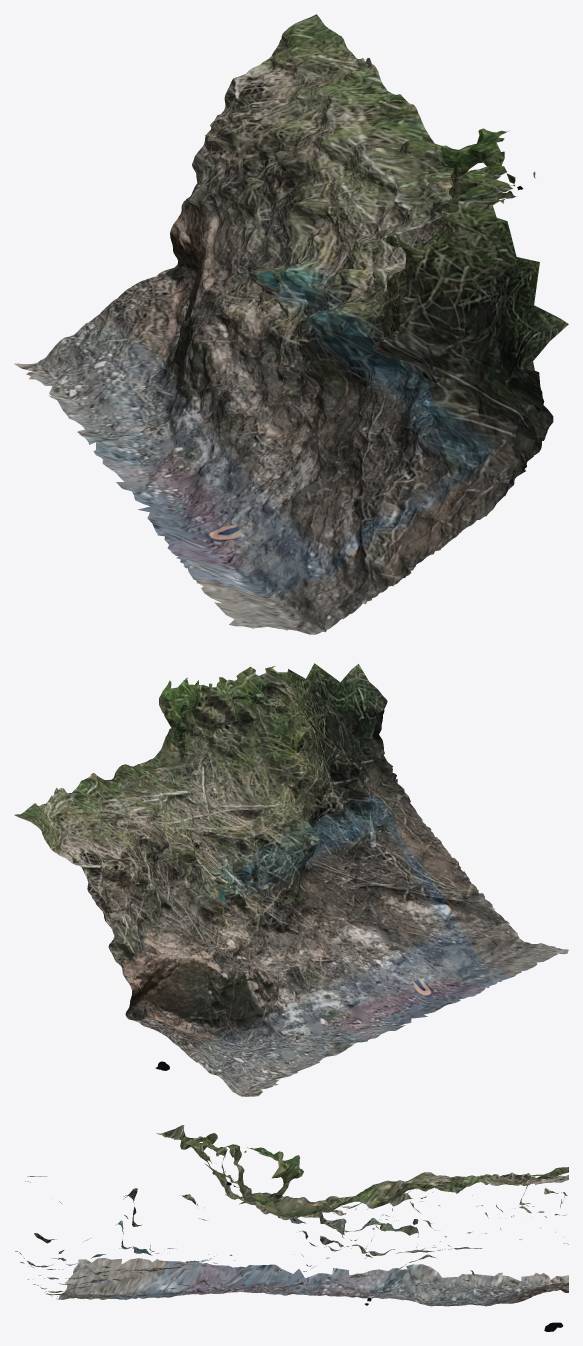
The picture shows the model from 3 angles, top to bottom: view 1: azimuth 30°, elevation 25°; view 2: azimuth 150°, elevation 25°; view 3: azimuth 270°, elevation 25°; orthographic projection. The views are drawn at different scales.
Size of the model in its own units: 2.87 by 2.39 by 4.41.
2 materials, 2 textured.
